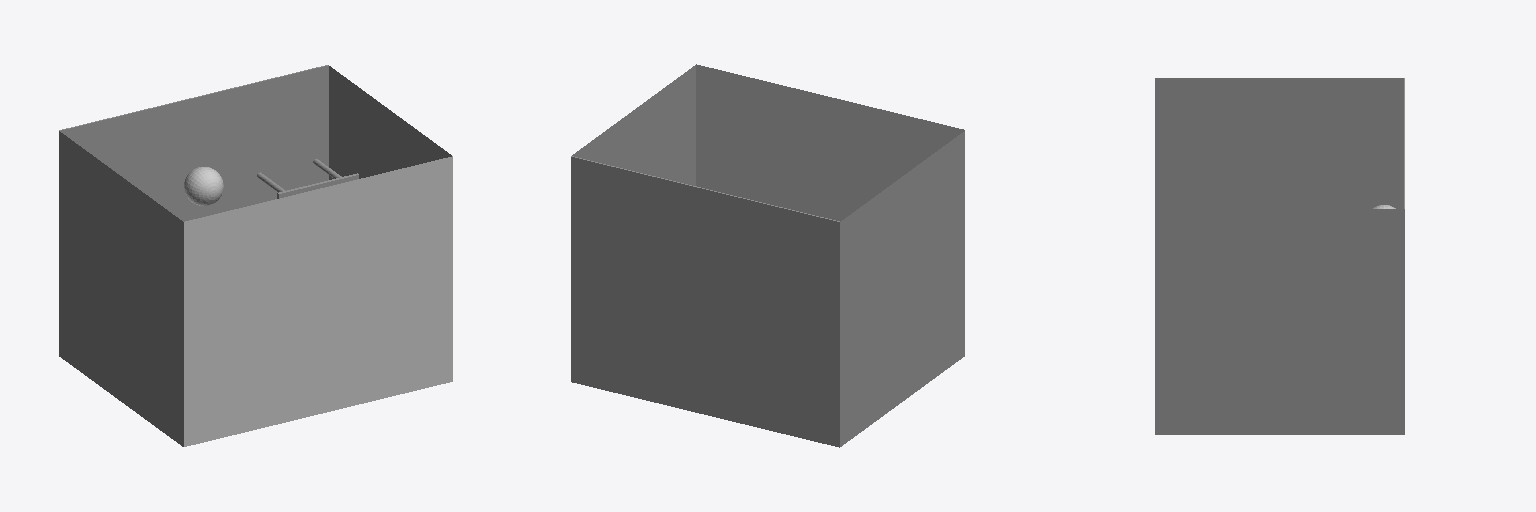
File: main.obj
The picture shows the model from 3 angles: view 1: azimuth 30°, elevation 25°; view 2: azimuth 150°, elevation 25°; view 3: azimuth 270°, elevation 25°; orthographic projection.
Parts seen in each view (by area): view 1: roof_Plane.008, rightwall_Plane.004, ground_Plane.006, leftwall_Plane.001, Sphere_Sphere.001; view 2: ground_Plane.006, rightwall_Plane.004, roof_Plane.008, leftwall_Plane.001; view 3: leftwall_Plane.001, rightwall_Plane.004.
Boxes of the visible parts, box(x1,y1,x2,y2) form: roof_Plane.008: box(184, 156, 452, 446); rightwall_Plane.004: box(59, 131, 183, 446); ground_Plane.006: box(59, 65, 328, 221); leftwall_Plane.001: box(329, 66, 451, 179); Sphere_Sphere.001: box(184, 167, 223, 205); ground_Plane.006: box(571, 156, 840, 447); rightwall_Plane.004: box(841, 131, 964, 446); roof_Plane.008: box(696, 64, 964, 221); leftwall_Plane.001: box(572, 65, 695, 185); leftwall_Plane.001: box(1155, 209, 1403, 434); rightwall_Plane.004: box(1155, 78, 1403, 208).
Size of the model in its own units: 10 by 8.02 by 8.07.